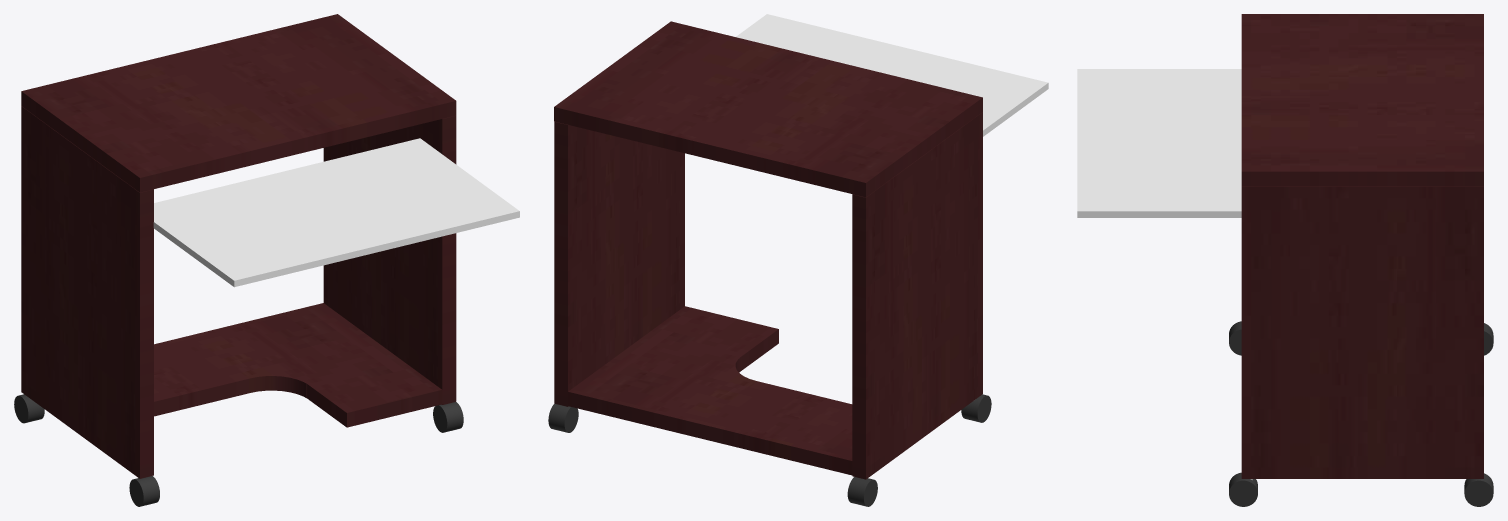
The model's file is bureauInfoOuvert.obj.
3 renders of one model, left to right at view 1: azimuth 30°, elevation 25°; view 2: azimuth 150°, elevation 25°; view 3: azimuth 270°, elevation 25°, orthographic. The views are drawn at different scales.
Visible parts, largest first — view 1: Cube_17_1, Cube_18_2, Cube_19_5, Boolean_3_4, Cube_18_1_3, Cylinder_9_1_9, Cylinder_9_6, Cylinder_9_2_10; view 2: Cube_17_1, Cube_18_2, Cube_18_1_3, Boolean_3_4, Cube_19_5, Cylinder_9_2_10, Cylinder_9_3_13, Cylinder_9_1_9; view 3: Cube_18_1_3, Cube_17_1, Cube_19_5, Cylinder_9_6, Cylinder_9_3_13.
Boxes of the visible parts, x1,y1,x2,y2 form: Cube_17_1: (21, 14, 456, 192); Cube_18_2: (21, 106, 153, 478); Cube_19_5: (153, 138, 519, 287); Boolean_3_4: (154, 303, 442, 427); Cube_18_1_3: (323, 115, 456, 404); Cylinder_9_1_9: (129, 476, 159, 506); Cylinder_9_6: (433, 402, 463, 432); Cylinder_9_2_10: (14, 394, 44, 423); Cube_17_1: (554, 21, 982, 197); Cube_18_2: (852, 112, 982, 479); Cube_18_1_3: (554, 121, 684, 406); Boolean_3_4: (568, 306, 852, 475); Cube_19_5: (736, 14, 1048, 136); Cylinder_9_2_10: (847, 477, 877, 506); Cylinder_9_3_13: (548, 403, 578, 432); Cylinder_9_1_9: (961, 394, 991, 422); Cube_18_1_3: (1241, 186, 1483, 478); Cube_17_1: (1241, 14, 1483, 186); Cube_19_5: (1077, 69, 1241, 217); Cylinder_9_6: (1229, 472, 1257, 506); Cylinder_9_3_13: (1464, 473, 1493, 506).
Bounding box in the file's own units: 77.87 × 76.46 × 85.87.
Materials: 4 (1 with a texture image).
